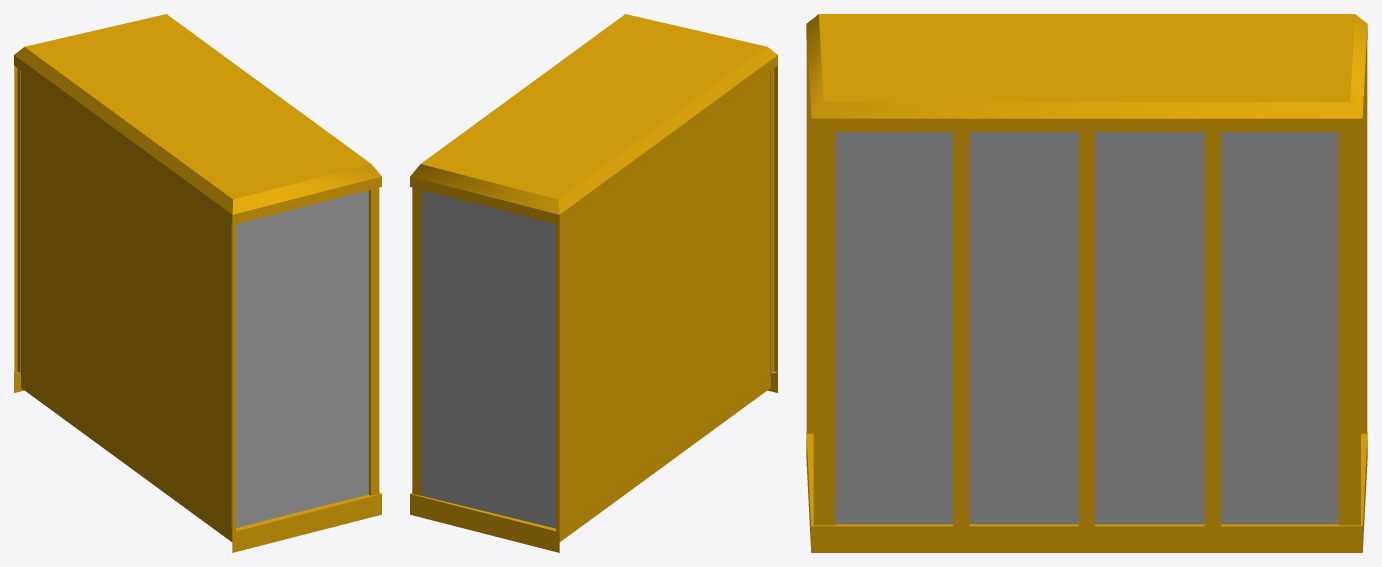
File: Flouers.fbx
3 views of the same model, side by side, from view 1: azimuth 30°, elevation 25°; view 2: azimuth 150°, elevation 25°; view 3: azimuth 270°, elevation 25° (orthographic). The views are drawn at different scales.
Parts seen in each view (by area): view 1: Flowers; view 2: Flowers; view 3: Flowers.
Boxes of the visible parts, x1=… form: Flowers: x1=14, y1=14, x2=381, y2=552; Flowers: x1=410, y1=14, x2=777, y2=552; Flowers: x1=806, y1=14, x2=1367, y2=552.
Size of the model in its own units: 100 by 220 by 250.
